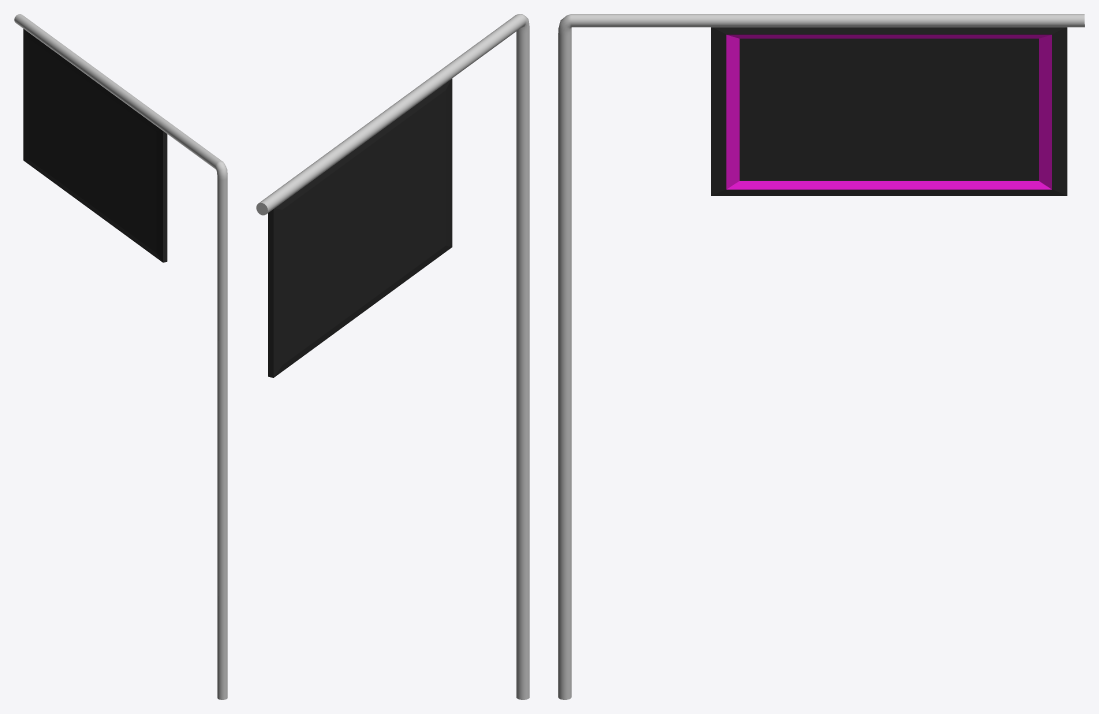
Rendered from Sign.fbx.
3 views of the same model, side by side, from view 1: azimuth 30°, elevation 25°; view 2: azimuth 150°, elevation 25°; view 3: azimuth 270°, elevation 25° (orthographic). The views are drawn at different scales.
Parts seen in each view (by area): view 1: pCube1, pCylinder1; view 2: pCube1, pCylinder1; view 3: pCube1, pCylinder1, pCube2.
Part boxes in pixels (<box>): pCube1: <box>23,29,167,262</box>; pCylinder1: <box>14,14,227,699</box>; pCube1: <box>268,78,452,377</box>; pCylinder1: <box>256,14,529,699</box>; pCube1: <box>711,27,1067,195</box>; pCylinder1: <box>558,14,1084,699</box>; pCube2: <box>726,34,1051,189</box>.
Size of the model in its own units: 1.13 by 62.92 by 44.01.
